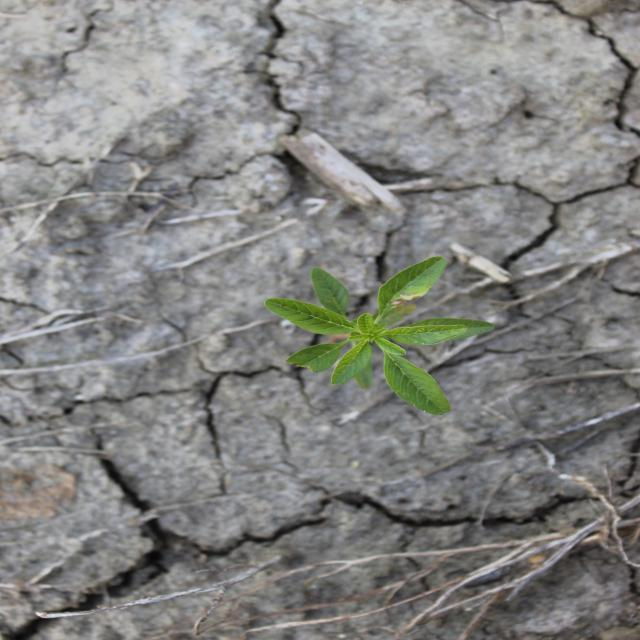Waterhemp: (264, 254, 497, 416)
